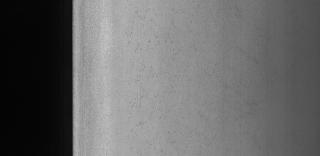silk spot: (126, 11, 194, 144)
